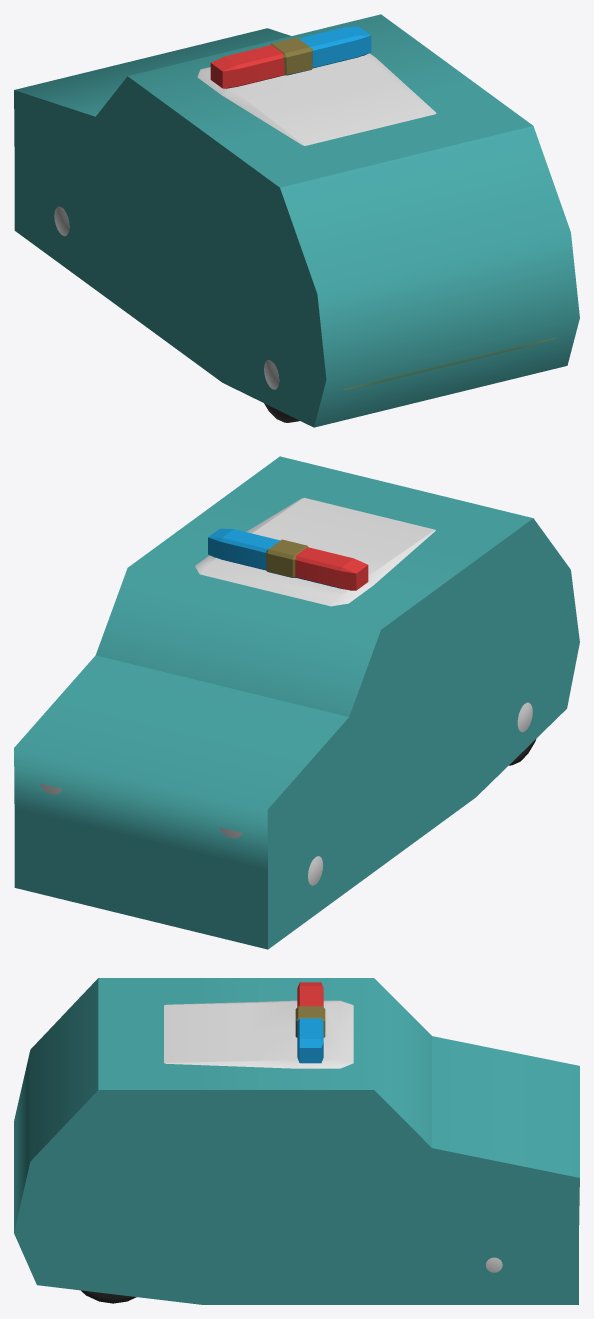
The model's file is mini.fbx.
3 renders of one model, top to bottom at view 1: azimuth 30°, elevation 25°; view 2: azimuth 150°, elevation 25°; view 3: azimuth 270°, elevation 25°, orthographic. The views are drawn at different scales.
Visible parts, largest first — view 1: mesh_mini, MiniUnionized2_pCylinder25, MiniUnionized2_pCylinder17; view 2: mesh_mini, MiniUnionized2_pCylinder25; view 3: mesh_mini, MiniUnionized2_pCylinder25.
Part boxes in pixels (x1,y1,x2,y2): mesh_mini: [14, 14, 579, 427]; MiniUnionized2_pCylinder25: [197, 26, 555, 389]; MiniUnionized2_pCylinder17: [264, 360, 299, 422]; mesh_mini: [14, 456, 579, 949]; MiniUnionized2_pCylinder25: [39, 498, 435, 838]; mesh_mini: [14, 978, 579, 1304]; MiniUnionized2_pCylinder25: [164, 982, 353, 1068].
Size of the model in its own units: 5.91 by 5.88 by 12.53.
